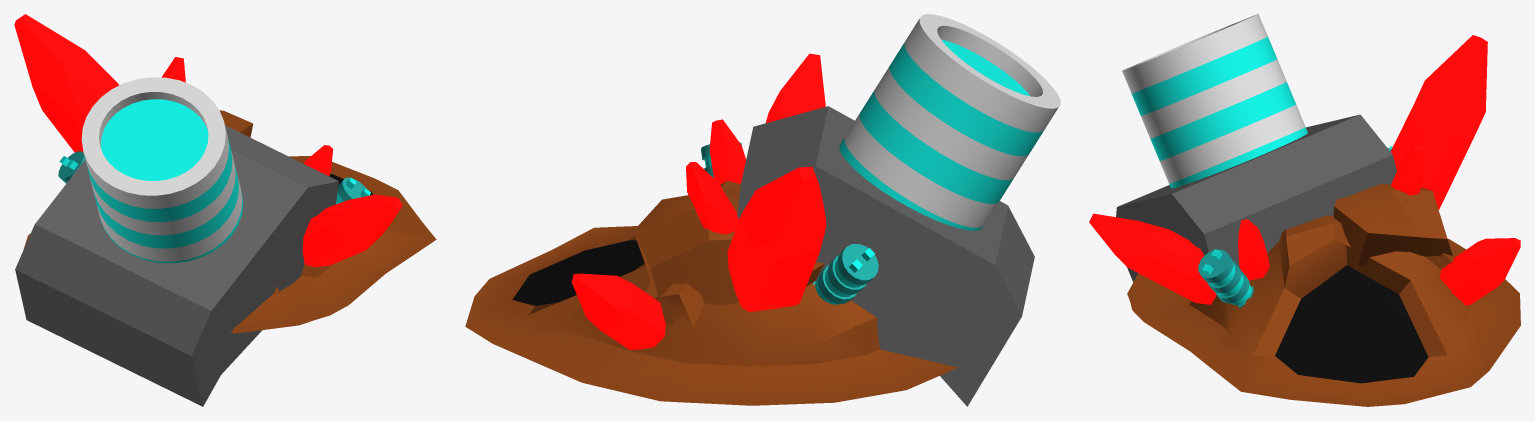
File: SM_BeetleHive.fbx
The picture shows the model from 3 angles, left to right: view 1: azimuth 30°, elevation 25°; view 2: azimuth 150°, elevation 25°; view 3: azimuth 270°, elevation 25°; orthographic projection. The views are drawn at different scales.
Visible parts, largest first — view 1: BeetleHive; view 2: BeetleHive; view 3: BeetleHive.
Part boxes in pixels (x1=…): BeetleHive: x1=14, y1=14, x2=436, y2=406; BeetleHive: x1=465, y1=14, x2=1060, y2=406; BeetleHive: x1=1089, y1=14, x2=1520, y2=406.
Bounding box in the file's own units: 20.57 × 14.04 × 18.39.
3 materials, 1 textured.
